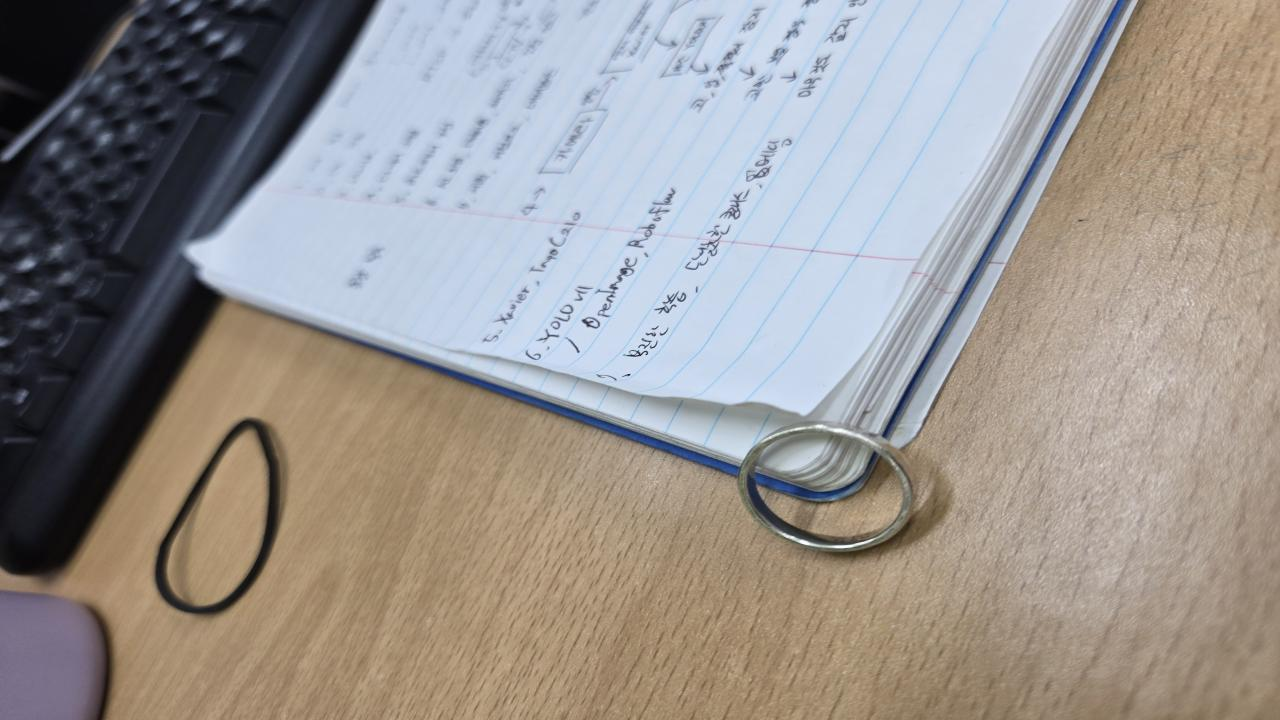ring: (737, 419, 922, 557)
